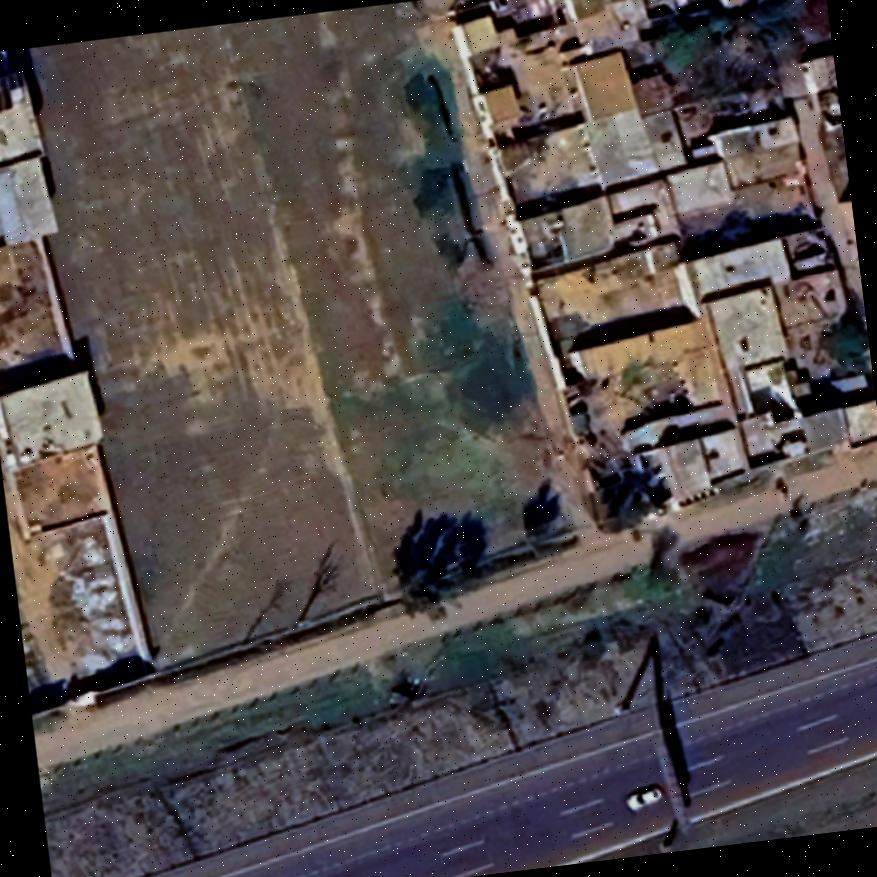Solarpanel: (0, 63, 33, 118)
